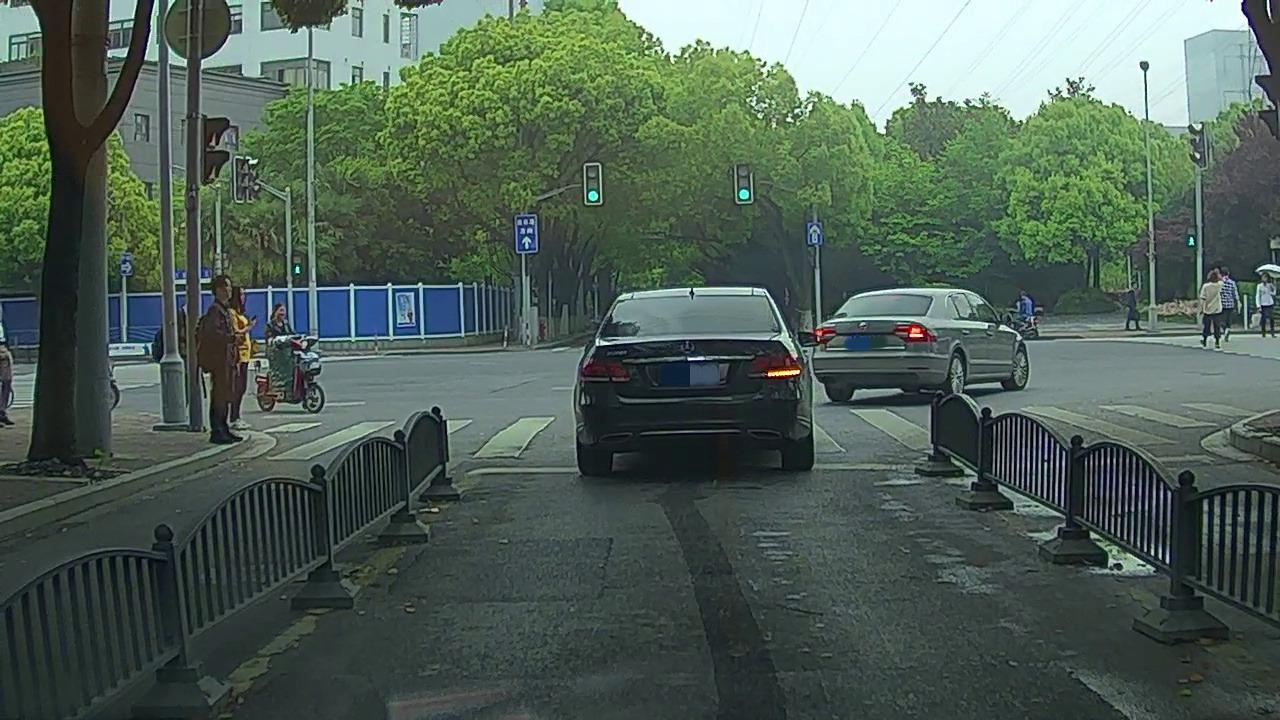traffic_light: (584, 165, 601, 204), (736, 165, 752, 202)
